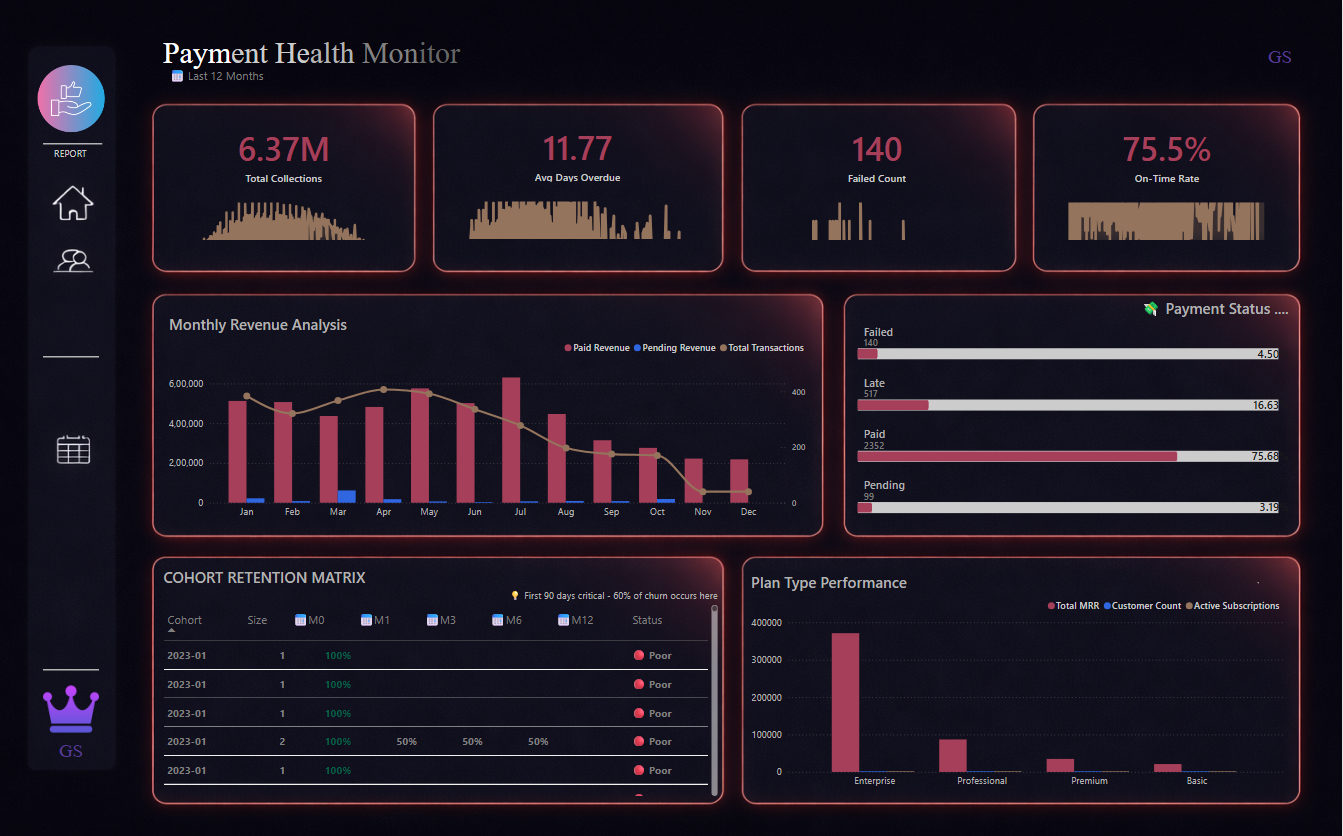

This screenshot's page, from the dashboard's own definition file:
{"tool":"powerbi","page":{"name":"💷Payment","canvas":[1920,1200],"ordinal":1},"visuals":[{"type":"actionButton","title":"show","box":[80,624,48,48],"z":0},{"type":"image","box":[48,96,112,96],"z":2000},{"type":"image","box":[64,976,80,80],"z":3000},{"type":"textbox","box":[64,1056,80,48],"z":4000},{"type":"shape","box":[64,144,85,128],"z":5000},{"type":"textbox","box":[32,208,144,64],"z":6000},{"type":"shape","box":[64,896,80,128],"z":7000},{"type":"shape","box":[64,448,80,128],"z":8000},{"type":"textbox","box":[176,48,544,64],"z":9000},{"type":"textbox","box":[240,96,256,144],"z":10000},{"type":"textbox","box":[1792,64,80,48],"z":11000},{"type":"tableEx","title":"COHORT RETENTION MATRIX","fields":{"Values":["customers.SignupDate","_Measures.Cohort Size","_Measures.M0 Retention %","_Measures.M1 Retention %","_Measures.M3 Retention %","_Measures.M6 Retention %","_Measures.M12 Retention %","_Measures.Cohort Health"]},"box":[224,800,816,352],"z":12000},{"type":"clusteredBarChart","title":"💸 Payment Status     ....  ","fields":{"Category":["transactions.payment_status"],"Y":["_Measures.header","_Measures.subheader","DateTable.Total bar"]},"box":[1216,416,640,336],"z":13000},{"type":"lineClusteredColumnComboChart","title":"Monthly Revenue Analysis ","fields":{"Category":["DateTable.Month"],"Y":["DateTable.Paid Revenue","DateTable.Pending Revenue"],"Y2":["_Measures.Total Transactions"]},"box":[224,432,952,336],"z":14000},{"type":"clusteredColumnChart","title":"Plan Type Performance","fields":{"Category":["subscriptions.plan_type"],"Y":["_Measures.Total MRR","DateTable.Customer Count","DateTable.Active Subscriptions"]},"box":[1056,800,800,352],"z":15000},{"type":"cardVisual","fields":{"Data":["DateTable.Total Collections"]},"box":[224,160,368,224],"z":16000},{"type":"cardVisual","fields":{"Data":["DateTable.Avg Days Overdue"]},"box":[620,158,416,224],"z":17000},{"type":"cardVisual","fields":{"Data":["DateTable.Failed Count"]},"box":[1056,160,400,224],"z":18000},{"type":"cardVisual","fields":{"Data":["DateTable.On-Time Rate"]},"box":[1480,160,380,224],"z":19000},{"type":"actionButton","box":[80,272,64,48],"z":19002}]}

Visuals, with their boxes on the page's 1920x1200 design canvas (x1, y1, x2, y2). These are canvas units, not pixel positions in the 1343x836 screenshot, which may show the page scaled, cropped or inside an application window:
"show" actionButton: x1=80 y1=624 x2=128 y2=672
image: x1=48 y1=96 x2=160 y2=192
image: x1=64 y1=976 x2=144 y2=1056
textbox: x1=64 y1=1056 x2=144 y2=1104
shape: x1=64 y1=144 x2=149 y2=272
textbox: x1=32 y1=208 x2=176 y2=272
shape: x1=64 y1=896 x2=144 y2=1024
shape: x1=64 y1=448 x2=144 y2=576
textbox: x1=176 y1=48 x2=720 y2=112
textbox: x1=240 y1=96 x2=496 y2=240
textbox: x1=1792 y1=64 x2=1872 y2=112
"COHORT RETENTION MATRIX" tableEx: x1=224 y1=800 x2=1040 y2=1152
"💸 Payment Status     ....  " clusteredBarChart: x1=1216 y1=416 x2=1856 y2=752
"Monthly Revenue Analysis " lineClusteredColumnComboChart: x1=224 y1=432 x2=1176 y2=768
"Plan Type Performance" clusteredColumnChart: x1=1056 y1=800 x2=1856 y2=1152
cardVisual - DateTable.Total Collections: x1=224 y1=160 x2=592 y2=384
cardVisual - DateTable.Avg Days Overdue: x1=620 y1=158 x2=1036 y2=382
cardVisual - DateTable.Failed Count: x1=1056 y1=160 x2=1456 y2=384
cardVisual - DateTable.On-Time Rate: x1=1480 y1=160 x2=1860 y2=384
actionButton: x1=80 y1=272 x2=144 y2=320
